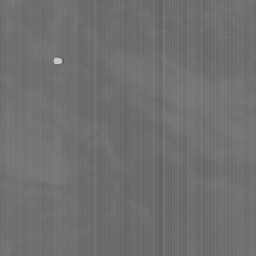Target: (51, 55, 66, 66)
